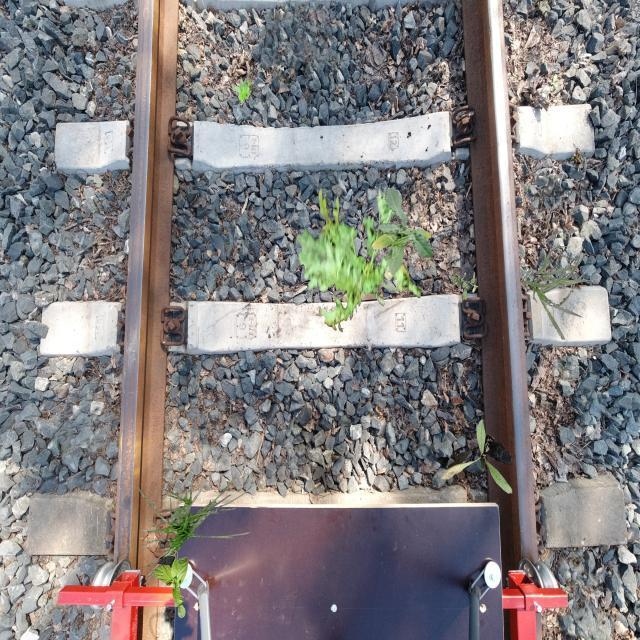Plant: (296, 186, 421, 333), (134, 462, 252, 584), (521, 246, 594, 339), (371, 187, 434, 280), (441, 419, 512, 494), (153, 556, 188, 618), (451, 269, 478, 300), (231, 78, 252, 103)
